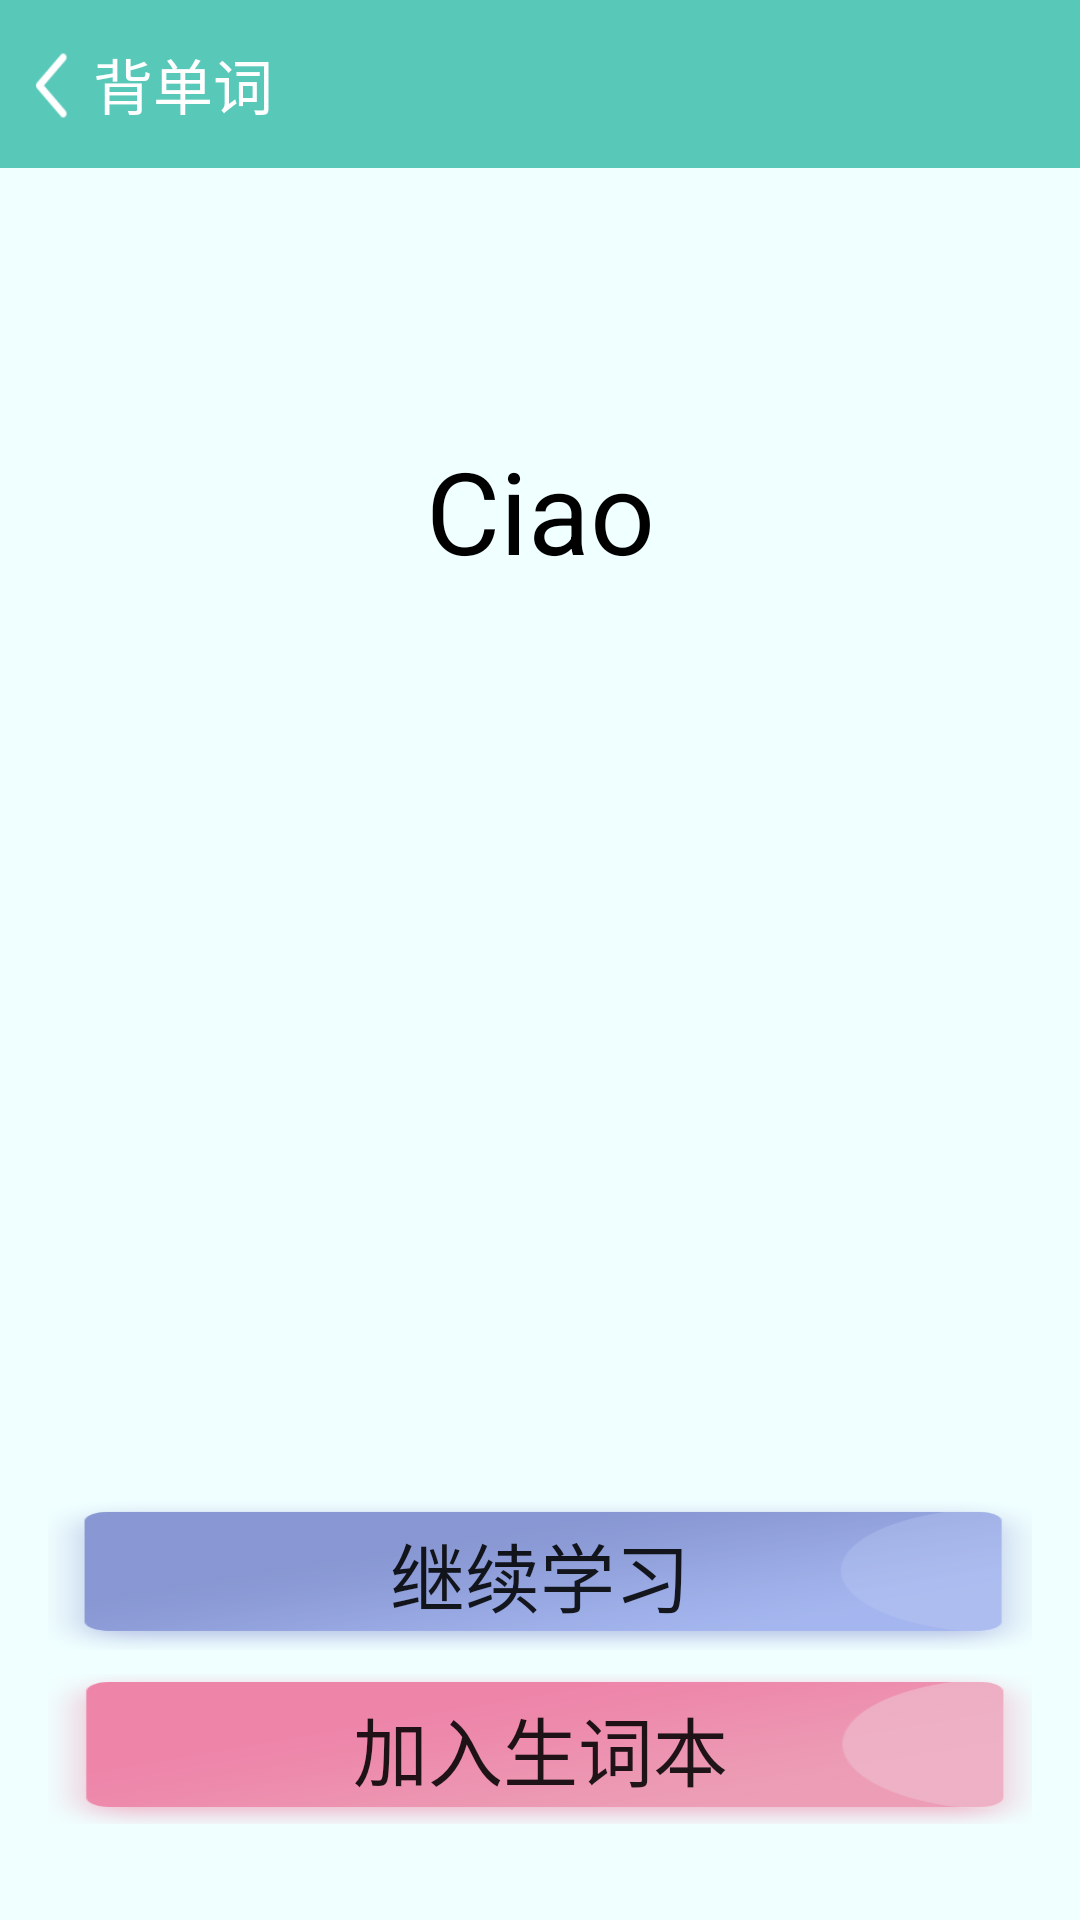

Named icons in this screenshot (1080 × 1920) and their centers, (x=x, y=y):
back: (x=51, y=85)
